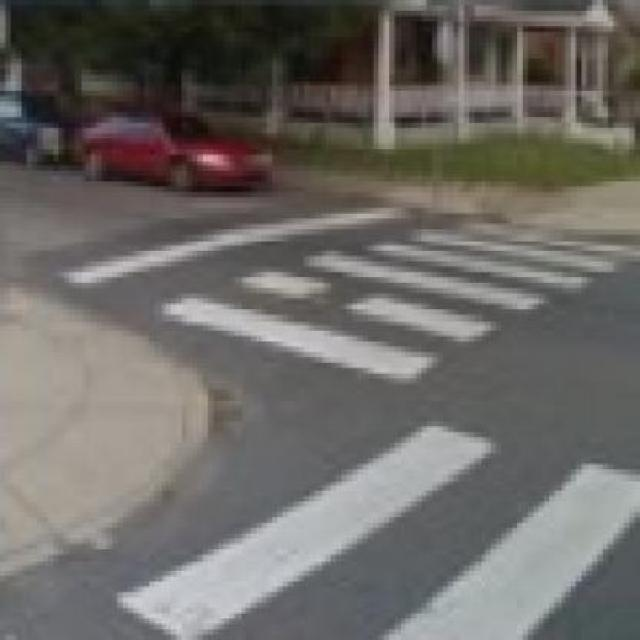crosswalk: (119, 422, 640, 640), (152, 215, 636, 385)
